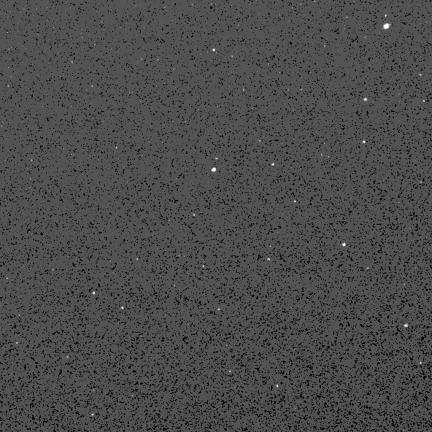blob: (384, 23, 390, 29), (212, 168, 216, 172), (364, 98, 367, 101), (213, 49, 216, 52), (363, 141, 366, 144), (342, 243, 345, 246), (405, 324, 407, 327)
